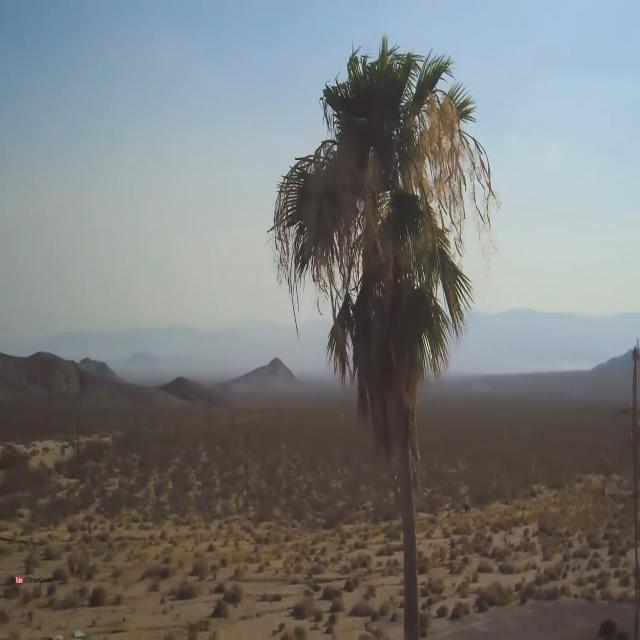Pole: (631, 342, 640, 640)
Tree: (273, 47, 488, 640)
